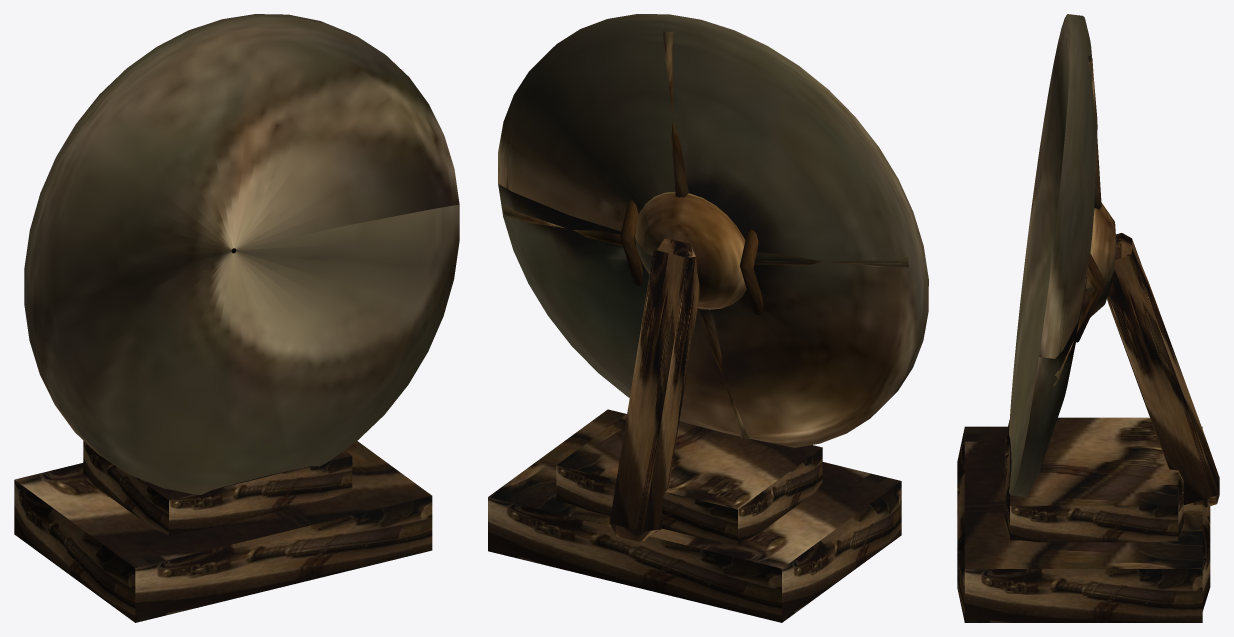
The model's file is shield-of-faith.glb.
3 renders of one model, left to right at view 1: azimuth 30°, elevation 25°; view 2: azimuth 150°, elevation 25°; view 3: azimuth 270°, elevation 25°, orthographic.
Parts seen in each view (by area): view 1: HeroRelicMonument; view 2: HeroRelicMonument; view 3: HeroRelicMonument.
Boxes of the visible parts, bbox=[...] form: HeroRelicMonument: bbox=[14, 14, 459, 622]; HeroRelicMonument: bbox=[488, 14, 928, 622]; HeroRelicMonument: bbox=[957, 14, 1219, 622].
Bounding box in the file's own units: 1.84 × 2.16 × 0.9963.
1 material, 1 textured.
